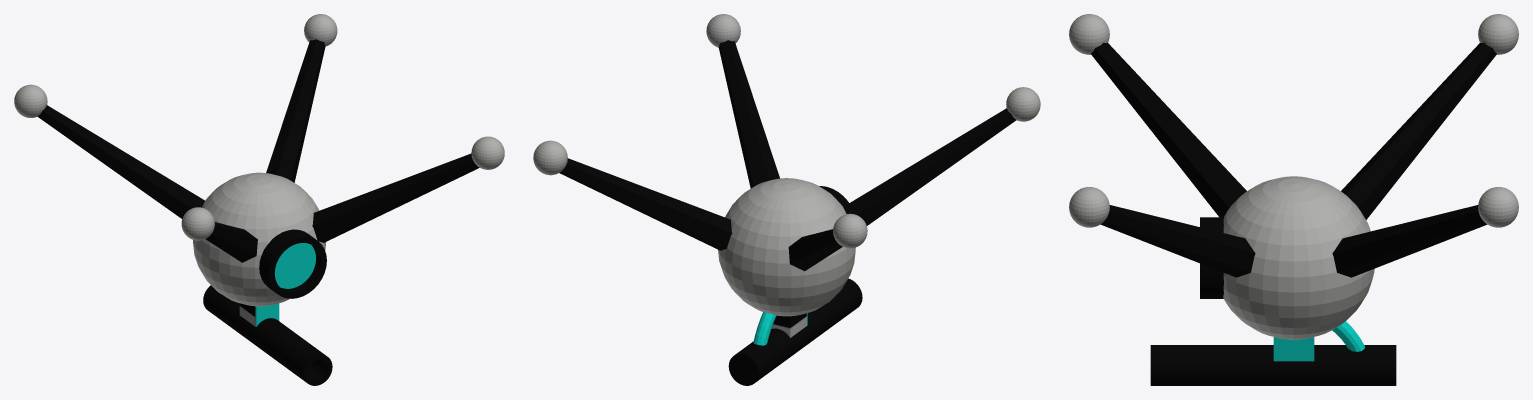
File: Enemy2.obj
3 renders of one model, left to right at view 1: azimuth 30°, elevation 25°; view 2: azimuth 150°, elevation 25°; view 3: azimuth 270°, elevation 25°, orthographic. The views are drawn at different scales.
Parts seen in each view (by area): view 1: 球_球.005, 円柱.006_円柱.011, 円柱.002_円柱.007, 円柱.004_円柱.009, 円柱.003_円柱.008, 円柱_円柱.005, 円柱.001_円柱.006, 円柱.005_円柱.010, 球.002_球.007, 球.003_球.008, 球.001_球.006, 球.004_球.009 (+1 smaller); view 2: 球_球.005, 円柱.003_円柱.008, 円柱.005_円柱.010, 円柱.002_円柱.007, 円柱.006_円柱.011, 円柱.004_円柱.009, 球.004_球.009, 球.001_球.006, 球.002_球.007, 球.003_球.008, 立方体_立方体.003, Torus.003; view 3: 球_球.005, 円柱.002_円柱.007, 円柱.004_円柱.009, 円柱.005_円柱.010, 円柱.003_円柱.008, 円柱.006_円柱.011, 球.003_球.008, 球.004_球.009, 球.001_球.006, 球.002_球.007, 円柱_円柱.005, 立方体_立方体.003 (+1 smaller).
Boxes of the visible parts, left/top/right/bottom form: 球_球.005: left=193, top=172, right=326, bottom=306; 円柱.006_円柱.011: left=312, top=153, right=479, bottom=242; 円柱.002_円柱.007: left=203, top=285, right=332, bottom=385; 円柱.004_円柱.009: left=37, top=105, right=204, bottom=218; 円柱.003_円柱.008: left=266, top=39, right=325, bottom=182; 円柱_円柱.005: left=259, top=229, right=326, bottom=298; 円柱.001_円柱.006: left=274, top=243, right=315, bottom=288; 円柱.005_円柱.010: left=205, top=222, right=257, bottom=262; 球.002_球.007: left=181, top=207, right=214, bottom=240; 球.003_球.008: left=471, top=136, right=504, bottom=169; 球.001_球.006: left=14, top=84, right=47, bottom=117; 球.004_球.009: left=304, top=14, right=337, bottom=46; 球_球.005: left=718, top=178, right=855, bottom=316; 円柱.003_円柱.008: left=559, top=158, right=732, bottom=250; 円柱.005_円柱.010: left=843, top=108, right=1016, bottom=225; 円柱.002_円柱.007: left=728, top=278, right=862, bottom=385; 円柱.006_円柱.011: left=718, top=40, right=779, bottom=188; 円柱.004_円柱.009: left=788, top=229, right=842, bottom=271; 球.004_球.009: left=533, top=140, right=567, bottom=175; 球.001_球.006: left=833, top=213, right=867, bottom=248; 球.002_球.007: left=1006, top=87, right=1040, bottom=121; 球.003_球.008: left=706, top=14, right=740, bottom=47; 立方体_立方体.003: left=771, top=313, right=807, bottom=337; Torus.003: left=753, top=312, right=776, bottom=345; 球_球.005: left=1223, top=176, right=1374, bottom=339; 円柱.002_円柱.007: left=1150, top=345, right=1396, bottom=385; 円柱.004_円柱.009: left=1341, top=42, right=1496, bottom=219; 円柱.005_円柱.010: left=1091, top=42, right=1246, bottom=217; 円柱.003_円柱.008: left=1332, top=205, right=1487, bottom=277; 円柱.006_円柱.011: left=1100, top=205, right=1255, bottom=277; 球.003_球.008: left=1069, top=187, right=1109, bottom=227; 球.004_球.009: left=1478, top=187, right=1518, bottom=227; 球.001_球.006: left=1478, top=14, right=1518, bottom=54; 球.002_球.007: left=1069, top=14, right=1109, bottom=54; 円柱_円柱.005: left=1200, top=217, right=1223, bottom=298; 立方体_立方体.003: left=1273, top=337, right=1314, bottom=361.
Size of the model in its own units: 5.5 by 3.8 by 5.5.
4 materials, 4 textured.
